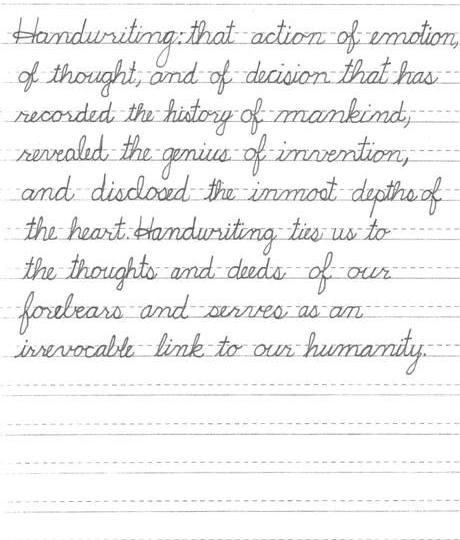text: (9, 14, 460, 68), (11, 326, 427, 376), (13, 132, 414, 182), (18, 174, 446, 219), (15, 55, 441, 100), (18, 248, 395, 296), (10, 94, 413, 138), (21, 212, 395, 259), (15, 288, 365, 337)
